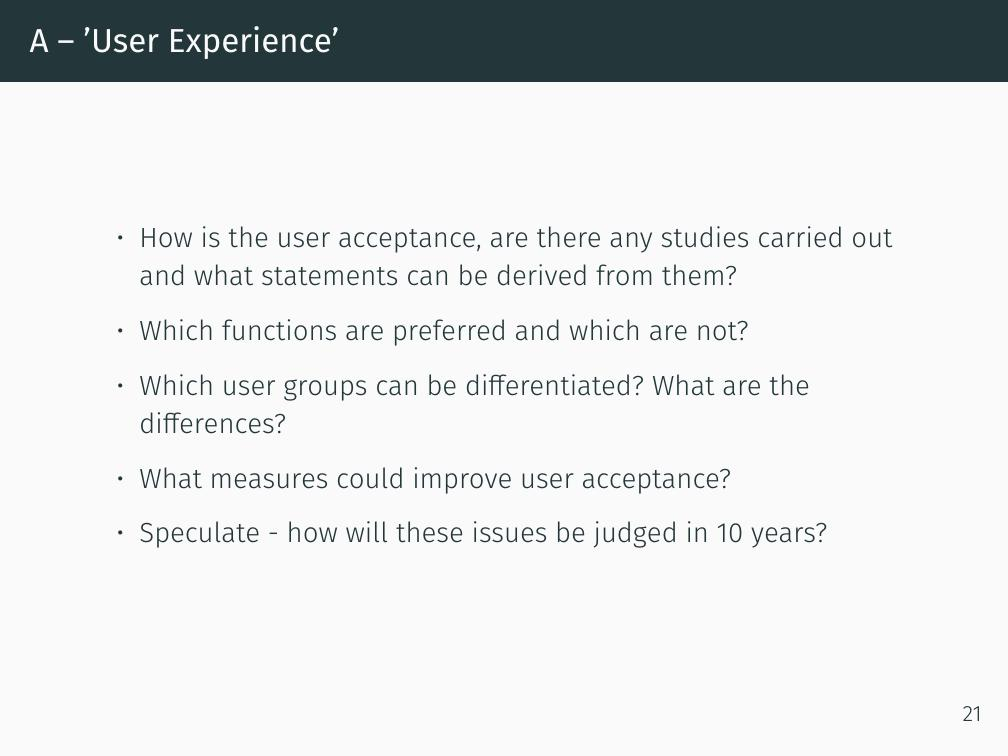Title: (19, 19, 343, 62)
